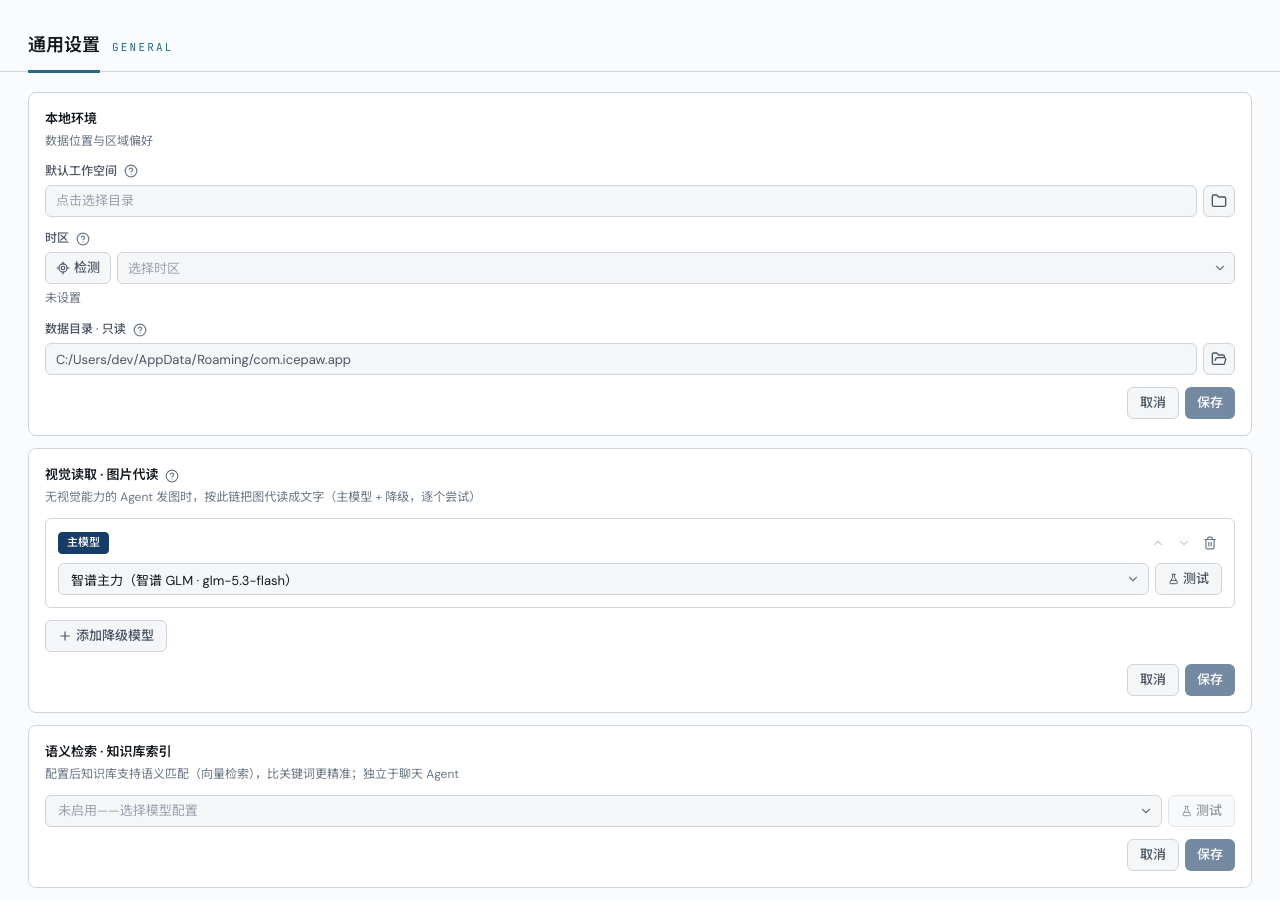
it: GeneralSettings 通用设置页（三卡显式保存） › 显式保存契约：无变更保存禁用；改草稿后取消 → 回滚不落库且草稿复原
Expected: the number of elements with class "settings-card" is 3, [28, 92, 1252, 436]; [28, 448, 1252, 713]; [28, 725, 1252, 888]
Expected: the 2nd button "保存" is disabled, [1185, 664, 1235, 696]
Note: 移除唯一条目（草稿）→ 保存可点 → 取消回滚
Click the button titled "移除此引用" at [1210, 543], box [1198, 531, 1222, 555]
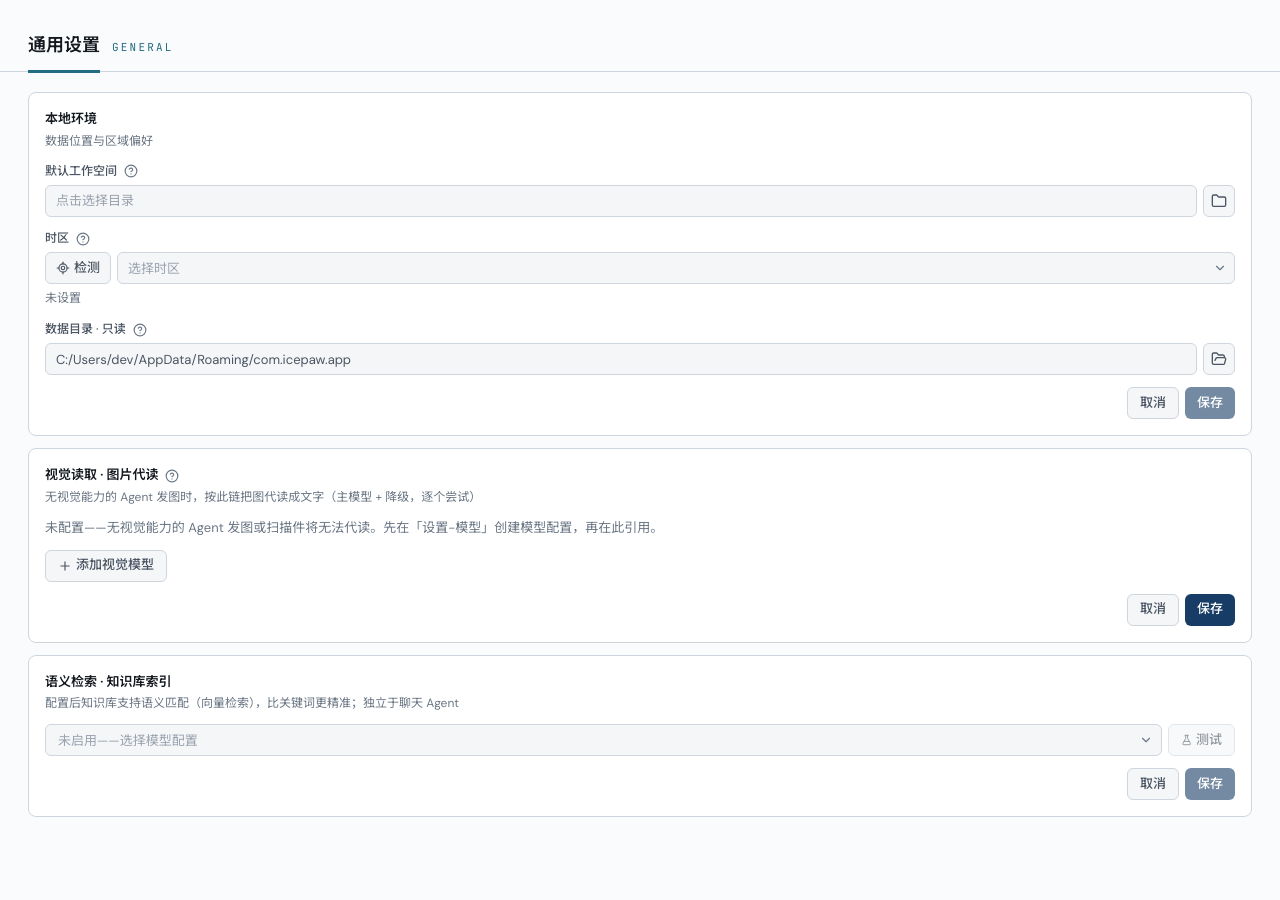
Expected: the 2nd button "保存" is enabled, [1185, 594, 1235, 626]
Click the 2nd button "取消" at [1153, 610], box [1127, 594, 1179, 626]
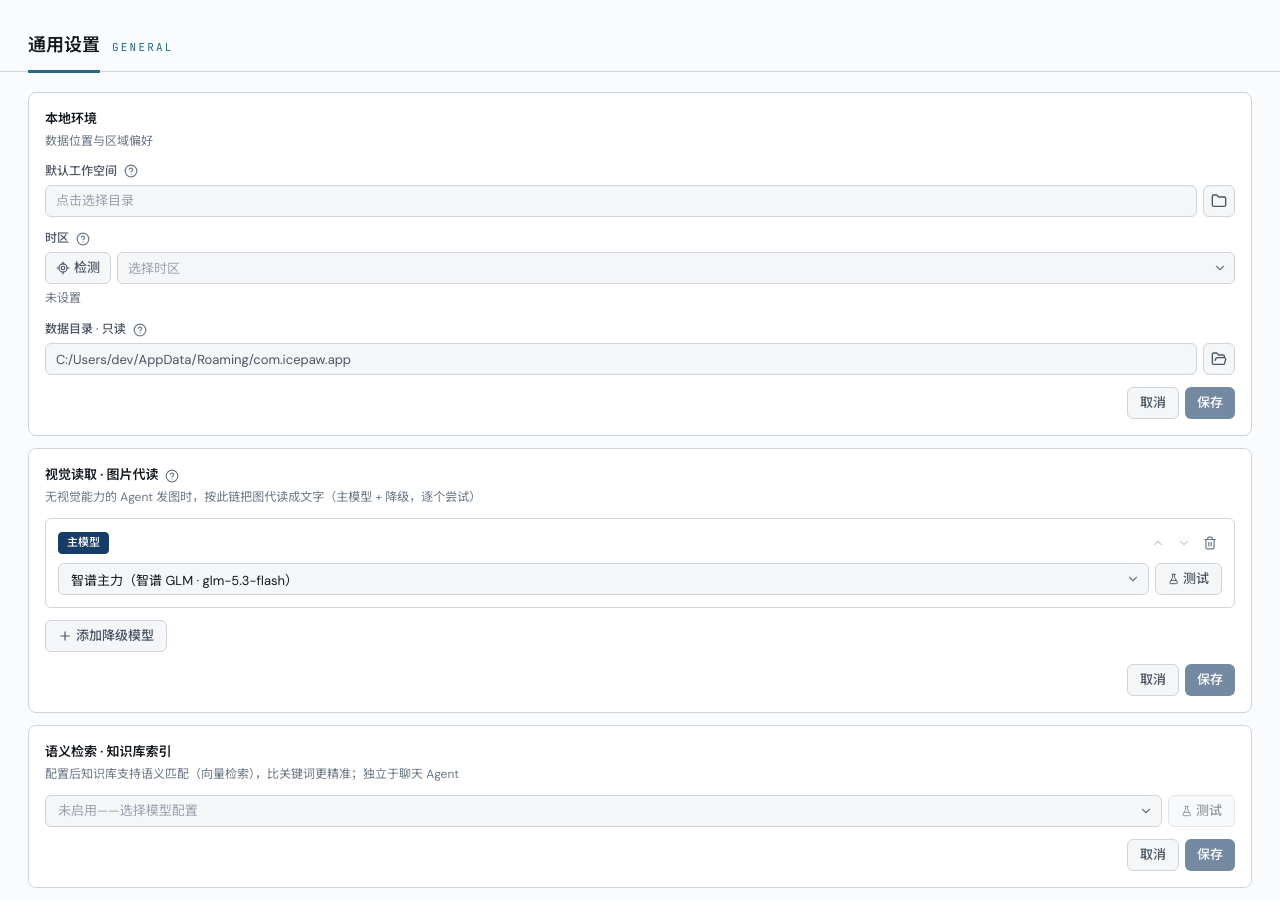
Expected: the 2nd button "保存" is disabled, [1185, 664, 1235, 696]
